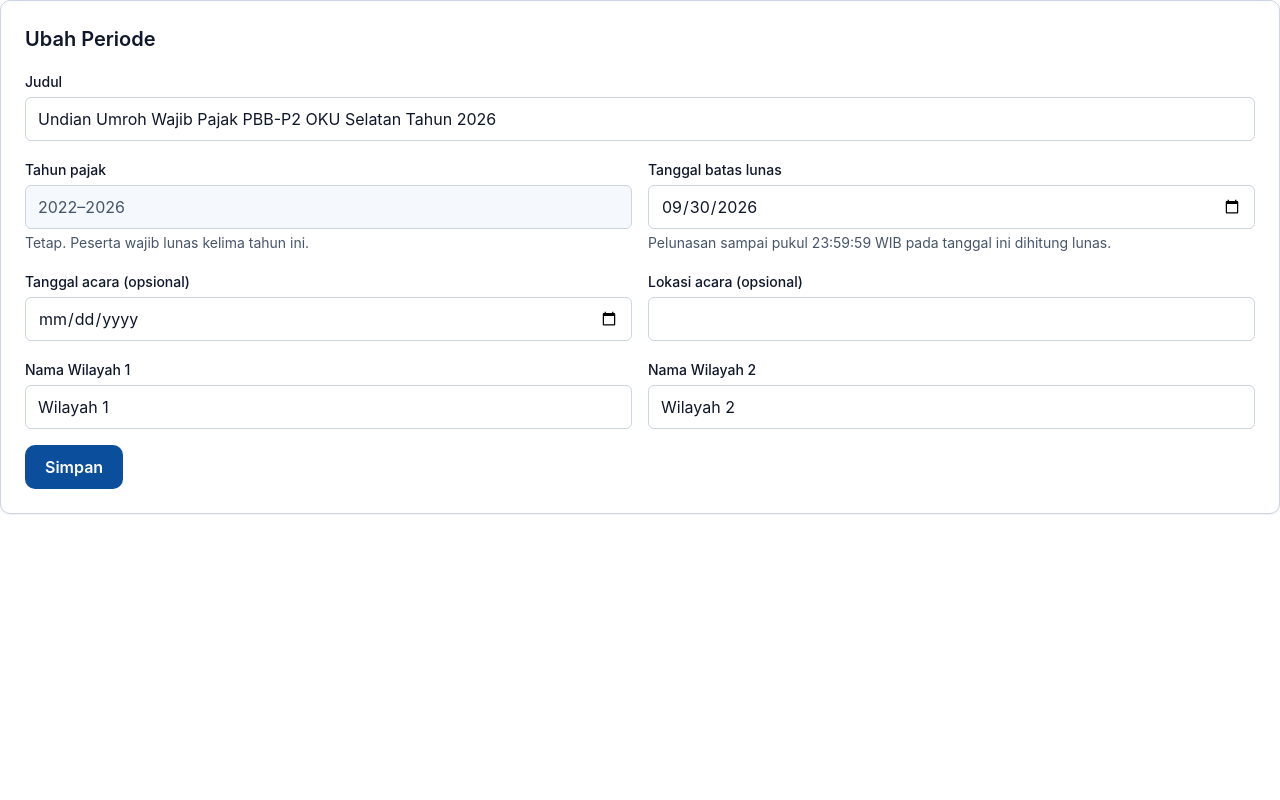
Test case: FormPeriode mode ubah › versi basi: pesan server tampil dan data dimuat ulang
Type "Aula" into the field labelled "Lokasi acara (opsional)" at (952, 319), box 648,297 -> 1255,341
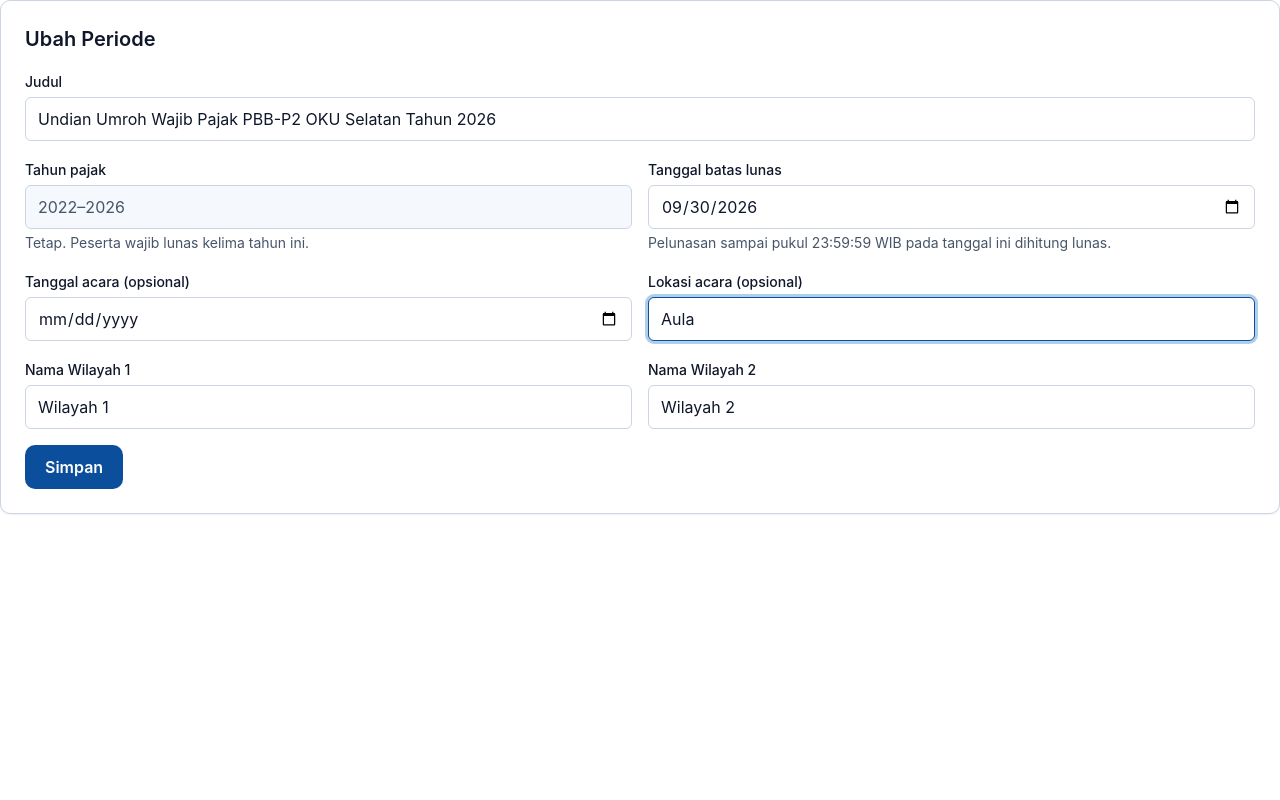
Click the button "Simpan" at (74, 467), box 25,445 -> 123,489
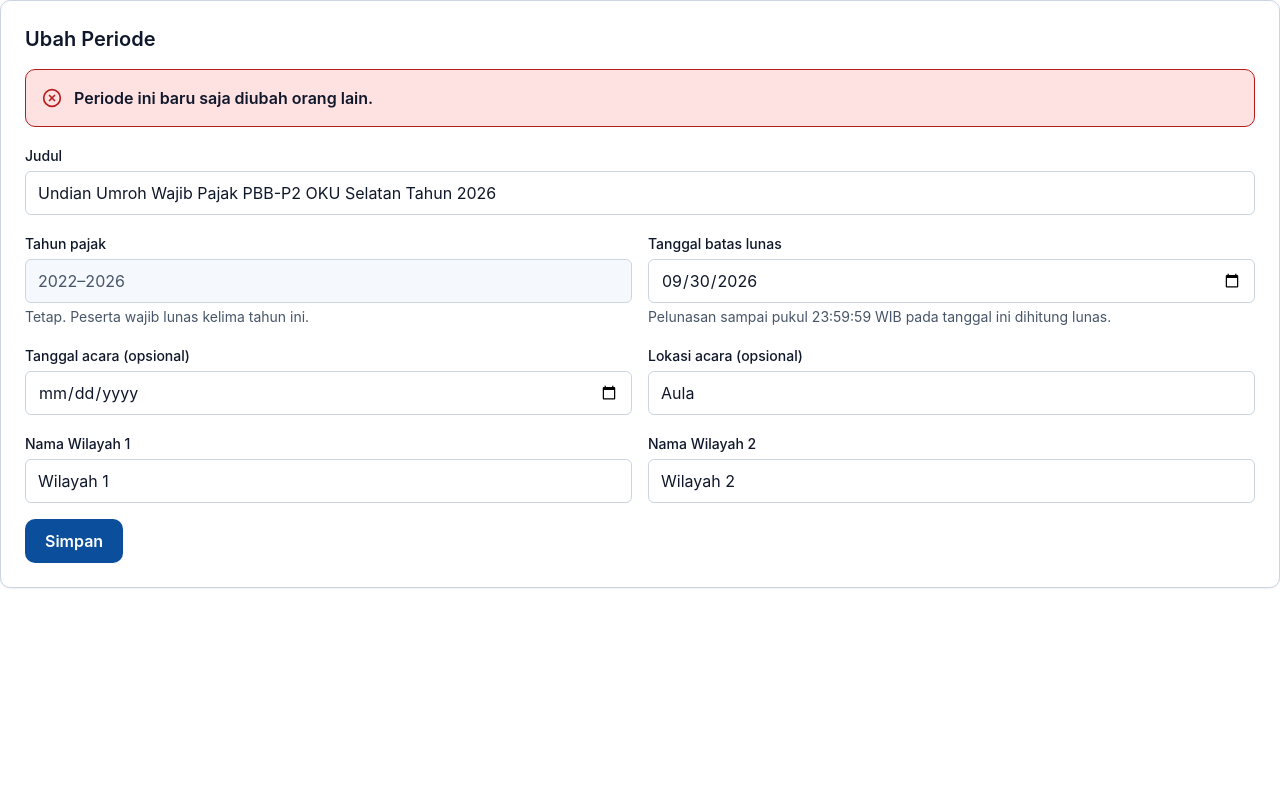
Check: the message shows "baru saja diubah orang lain", box 74,88 -> 373,108
